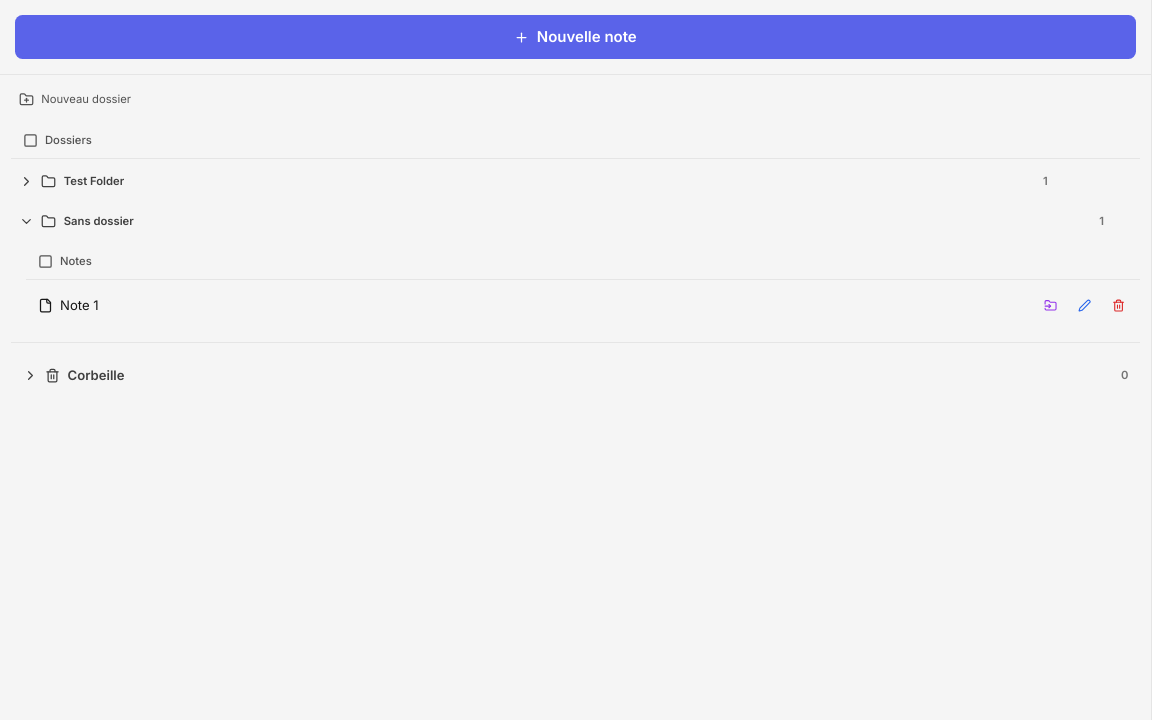
Test: Sidebar › Folder Management › should expand/collapse folder when clicking chevron
What coordinates should you click on to do the following:
click the button "Test Folder"
I would click on:
 (94, 181)
Its box is x1=19 y1=174 x2=1036 y2=189.
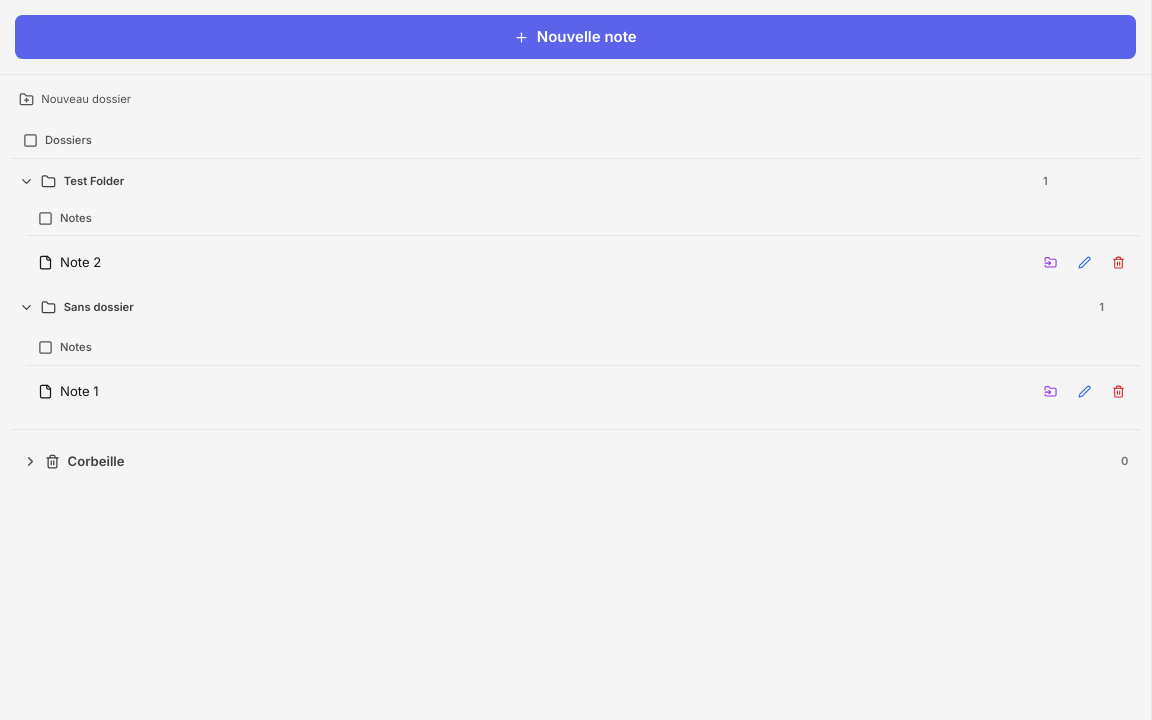
Check: the text "Note 2" is shown, box x1=60 y1=253 x2=101 y2=272
